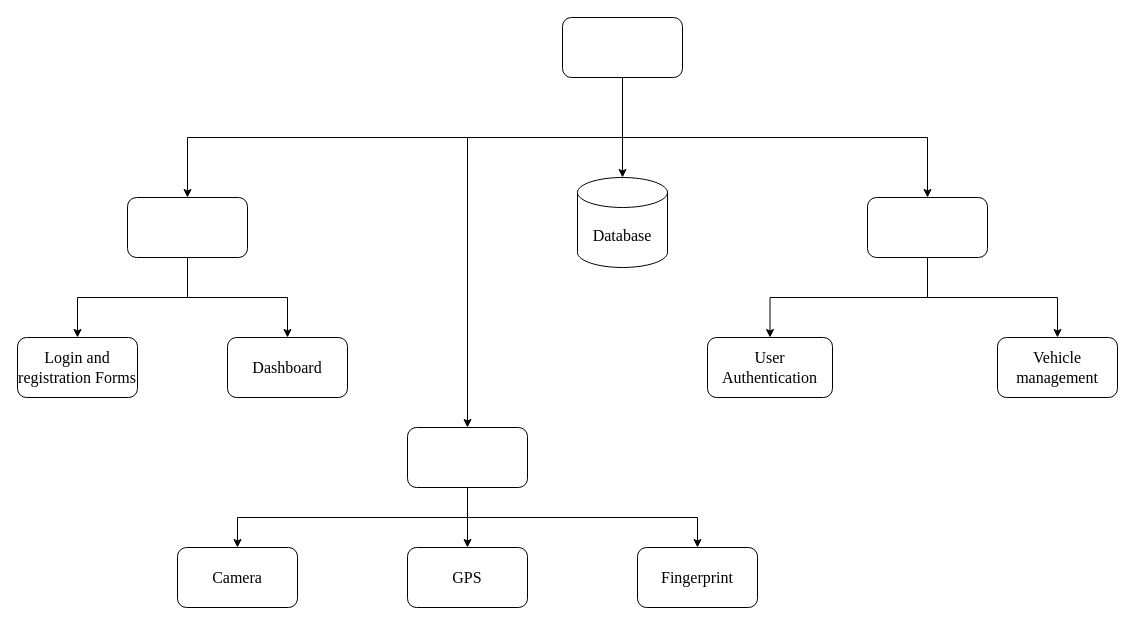
Some shapes in this 1135 by 625 pixel diagram are drawn without their labels. The box of each missing label's shape, as (x1, y1, x2, y2) in pixels:
Backend: (866, 196, 988, 258)
Frontend: (126, 196, 248, 258)
System: (562, 16, 682, 78)
Vehicle Hardware: (406, 426, 528, 488)
